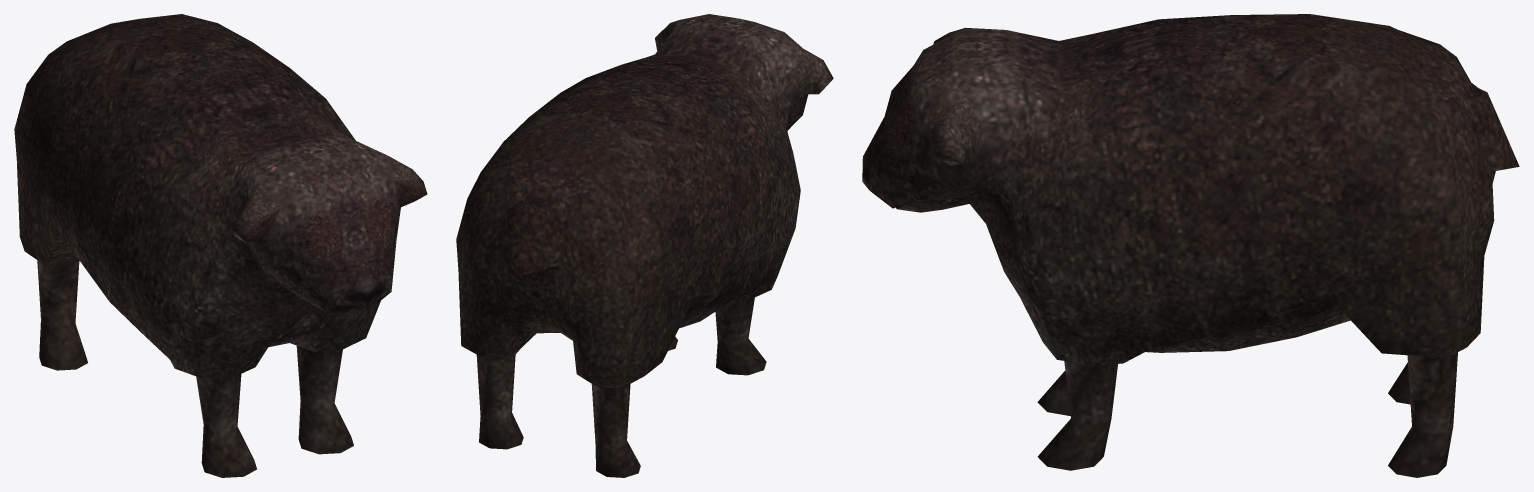
The model's file is Burned_sheep_01.fbx.
3 renders of one model, left to right at view 1: azimuth 30°, elevation 25°; view 2: azimuth 150°, elevation 25°; view 3: azimuth 270°, elevation 25°, orthographic. The views are drawn at different scales.
Visible parts, largest first — view 1: polySurface190; view 2: polySurface190; view 3: polySurface190.
Boxes of the visible parts, <box> form: polySurface190: <box>14,14,427,477</box>; polySurface190: <box>456,14,833,477</box>; polySurface190: <box>862,14,1519,477</box>.
Size of the model in its own units: 1.81 by 2.45 by 3.67.
